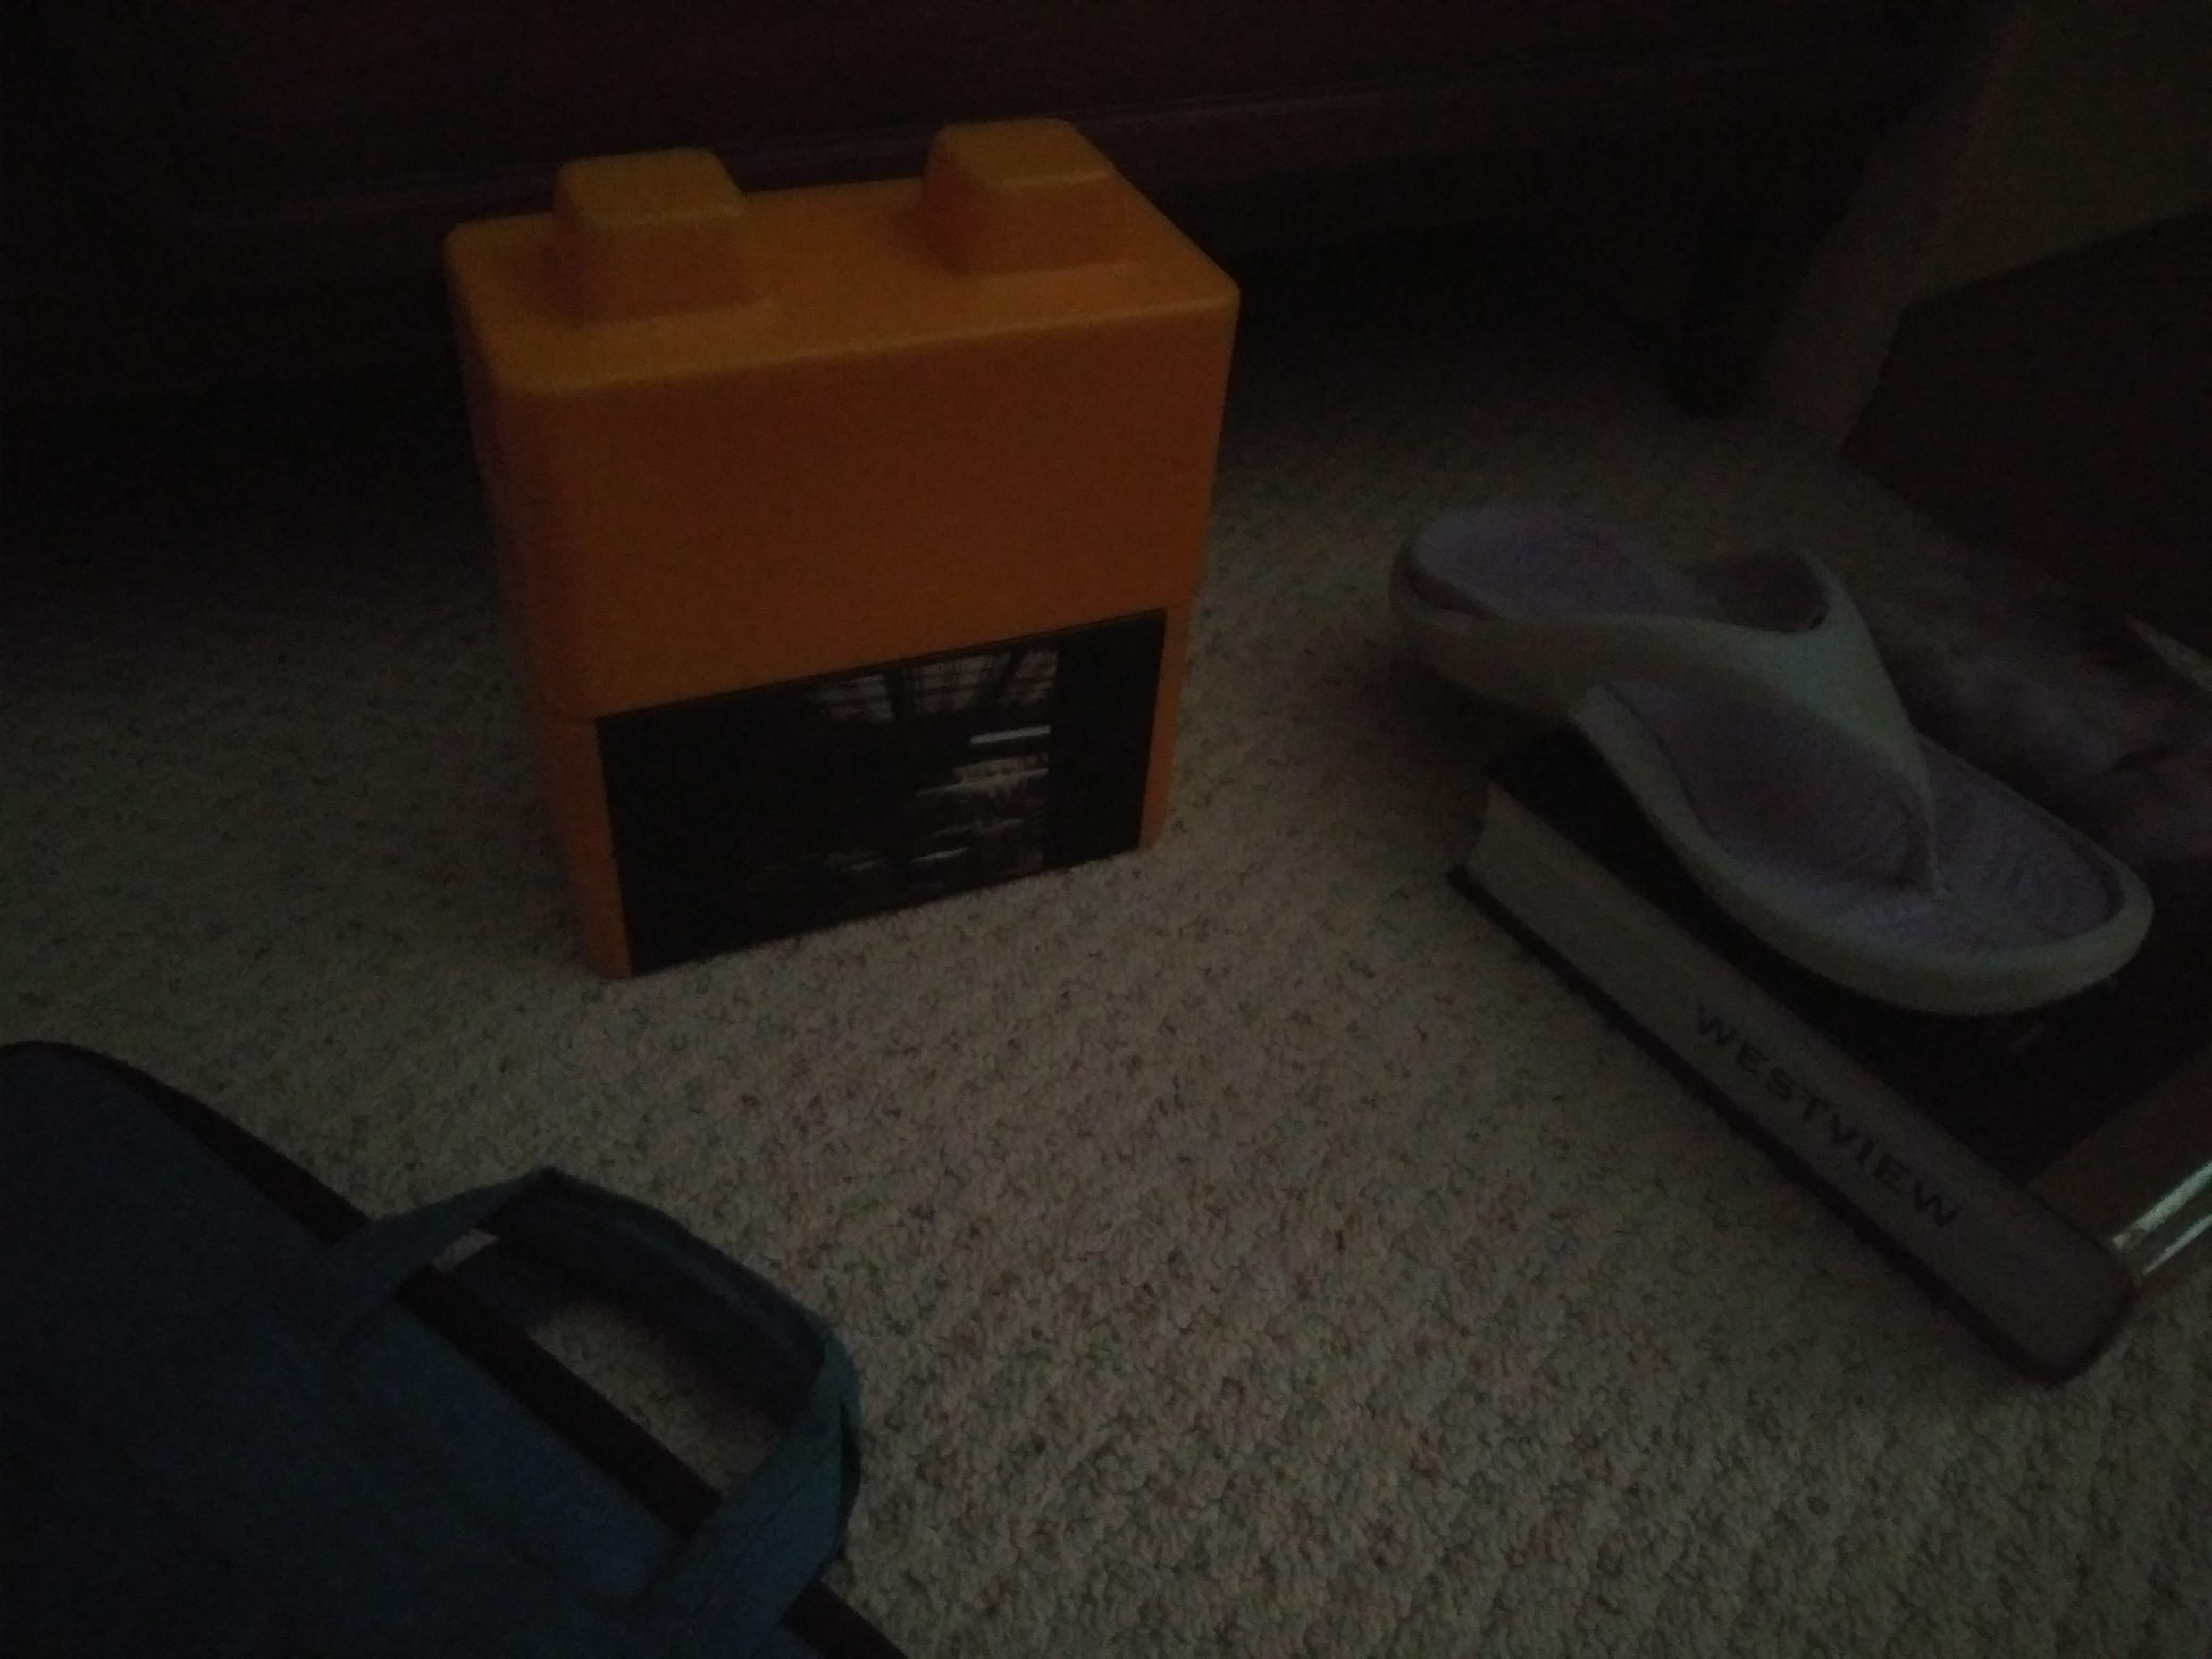skystone: (559, 648, 1188, 965)
stone: (470, 227, 1230, 612)
